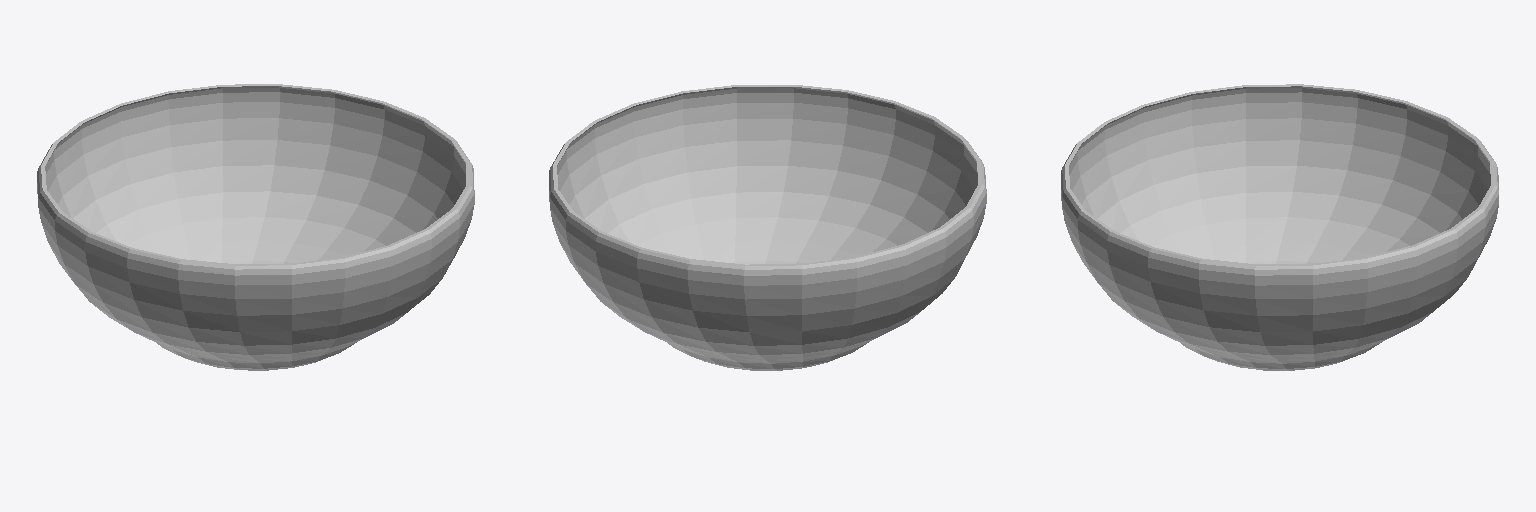
Rendered from bowl.obj.
3 renders of one model, left to right at view 1: azimuth 30°, elevation 25°; view 2: azimuth 150°, elevation 25°; view 3: azimuth 270°, elevation 25°, orthographic.
Parts seen in each view (by area): view 1: Cube; view 2: Cube; view 3: Cube.
Boxes of the visible parts, x1,y1,x2,y2 form: Cube: [37, 84, 474, 370]; Cube: [549, 85, 986, 370]; Cube: [1061, 84, 1498, 370].
Size of the model in its own units: 3.98 by 1.62 by 3.98.